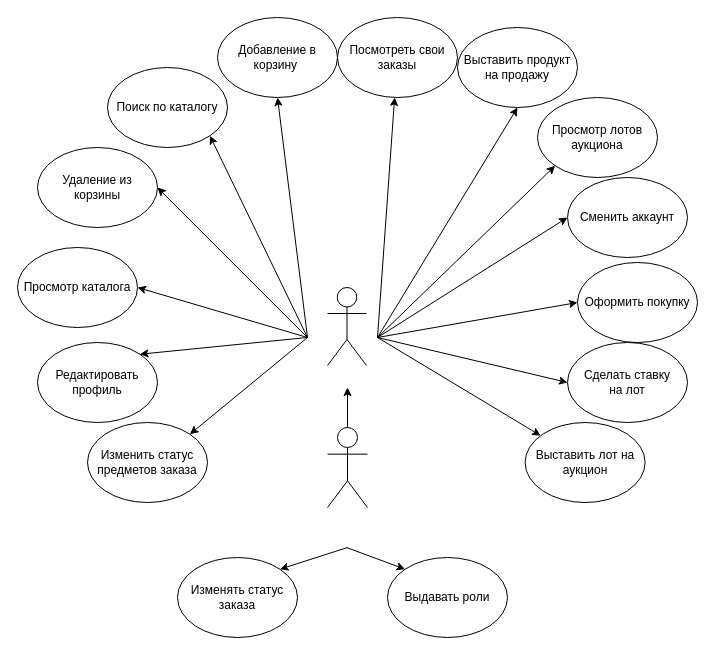
This 715x655 diagram has some shape labels left out. The box of each missing label's shape, as (x1, y1, x2, y2) in pixels:
Администратор: (326, 426, 368, 508)
Пользователь: (326, 286, 366, 366)
